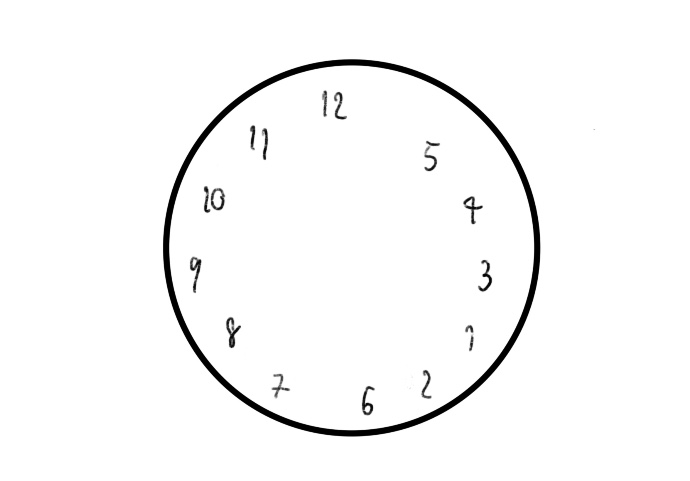eight: (221, 311, 240, 350)
eleven: (246, 121, 271, 165)
five: (418, 133, 439, 180)
four: (460, 191, 488, 229)
nine: (186, 251, 204, 294)
one: (462, 321, 481, 353)
seven: (270, 370, 290, 400)
six: (359, 381, 375, 419)
ten: (202, 180, 227, 217)
three: (476, 256, 495, 296)
twelve: (320, 87, 348, 124)
two: (417, 363, 434, 401)
